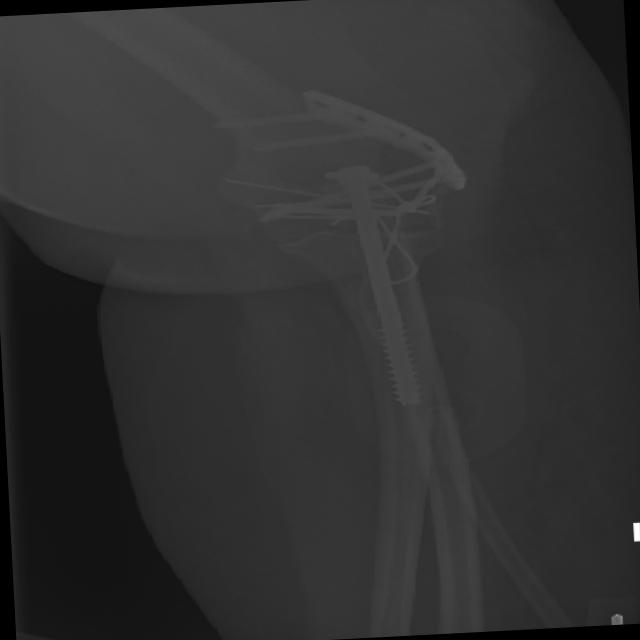elbow positive: (183, 151, 304, 230)
